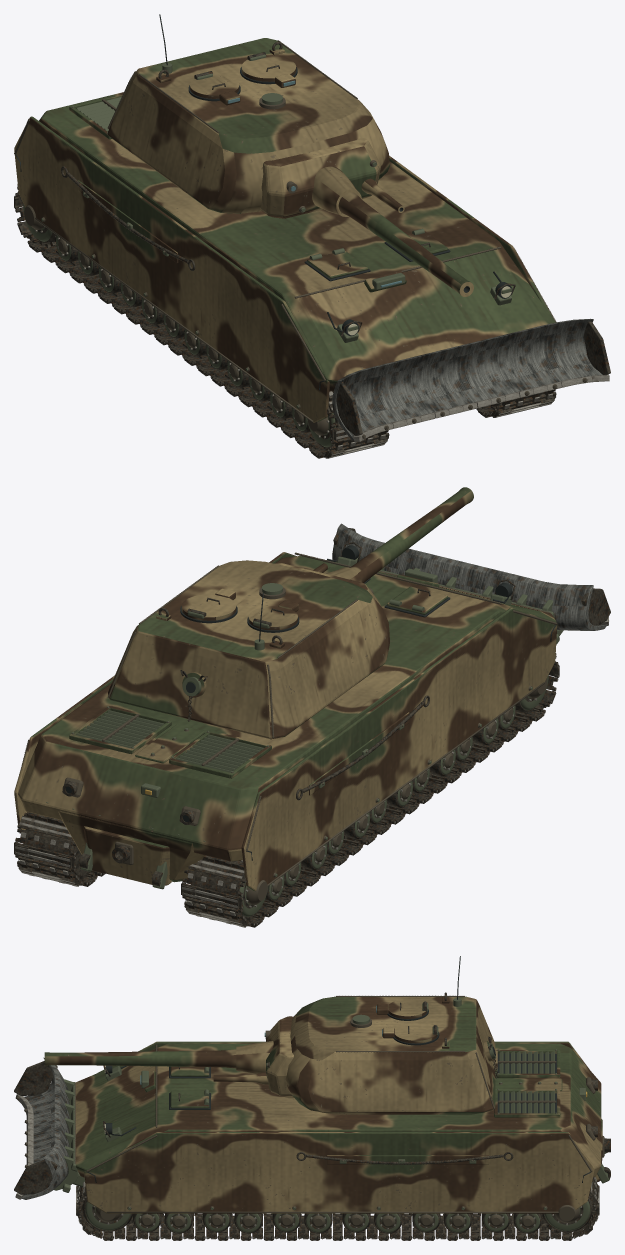
Rendered from maus-engineering.glb.
The picture shows the model from 3 angles, top to bottom: view 1: azimuth 30°, elevation 25°; view 2: azimuth 150°, elevation 25°; view 3: azimuth 270°, elevation 25°; orthographic projection. The views are drawn at different scales.
Parts seen in each view (by area): view 1: 02 · Welded upper hull and glacis, 03 · Continuous deep side armor L, Turret · rolled bow, pitched cheeks and rear armor, Continuous curved moldboard shell, Asymmetric cast gun cradle, Main gun exterior, Bolstered barrel collar, 03 · Continuous deep side armor R, Commander low hatch cover, Flush deck hatch L, Moldboard outer cheek +1, Gunner low hatch cover (+5 smaller); view 2: 02 · Welded upper hull and glacis, Turret · rolled bow, pitched cheeks and rear armor, 03 · Continuous deep side armor L, Continuous curved moldboard shell, Rear double towing shoe, Main gun exterior, 01 · Belly pan and lower nose, Engine center maintenance spine, 03 · Continuous deep side armor R, Commander low hatch cover, Rear_Sprocket_L, Flush deck hatch L (+14 smaller); view 3: 03 · Continuous deep side armor R, 02 · Welded upper hull and glacis, Turret · rolled bow, pitched cheeks and rear armor, Continuous curved moldboard shell, Main gun exterior, Asymmetric cast gun cradle, Cable saddle backing R, Rear_Sprocket_R, Bolstered barrel collar, Moldboard outer cheek -1, Moldboard outer cheek +1, Front_Idler_R (+22 smaller).
Boxes of the visible parts, x1=… form: 02 · Welded upper hull and glacis: x1=39, y1=92, x2=555, y2=391; 03 · Continuous deep side armor L: x1=14, y1=116, x2=329, y2=422; Turret · rolled bow, pitched cheeks and rear armor: x1=108, y1=38, x2=389, y2=213; Continuous curved moldboard shell: x1=332, y1=318, x2=602, y2=440; Asymmetric cast gun cradle: x1=260, y1=138, x2=380, y2=218; Main gun exterior: x1=338, y1=192, x2=473, y2=296; Bolstered barrel collar: x1=312, y1=166, x2=361, y2=216; 03 · Continuous deep side armor R: x1=389, y1=156, x2=553, y2=318; Commander low hatch cover: x1=241, y1=55, x2=296, y2=81; Flush deck hatch L: x1=307, y1=251, x2=368, y2=278; Moldboard outer cheek +1: x1=584, y1=321, x2=610, y2=375; Gunner low hatch cover: x1=190, y1=74, x2=239, y2=98; 02 · Welded upper hull and glacis: x1=18, y1=556, x2=556, y2=861; Turret · rolled bow, pitched cheeks and rear armor: x1=108, y1=560, x2=389, y2=739; 03 · Continuous deep side armor L: x1=241, y1=607, x2=557, y2=891; Continuous curved moldboard shell: x1=332, y1=523, x2=607, y2=630; Rear double towing shoe: x1=83, y1=826, x2=171, y2=885; Main gun exterior: x1=350, y1=487, x2=473, y2=582; 01 · Belly pan and lower nose: x1=58, y1=810, x2=204, y2=882; Engine center maintenance spine: x1=135, y1=724, x2=205, y2=763; 03 · Continuous deep side armor R: x1=14, y1=552, x2=296, y2=829; Commander low hatch cover: x1=181, y1=594, x2=236, y2=620; Rear_Sprocket_L: x1=191, y1=861, x2=268, y2=920; Flush deck hatch L: x1=387, y1=586, x2=447, y2=614; 03 · Continuous deep side armor R: x1=84, y1=1132, x2=594, y2=1213; 02 · Welded upper hull and glacis: x1=75, y1=1043, x2=601, y2=1177; Turret · rolled bow, pitched cheeks and rear armor: x1=285, y1=996, x2=495, y2=1114; Continuous curved moldboard shell: x1=21, y1=1057, x2=69, y2=1199; Main gun exterior: x1=44, y1=1049, x2=236, y2=1068; Asymmetric cast gun cradle: x1=266, y1=1016, x2=293, y2=1098; Cable saddle backing R: x1=327, y1=1155, x2=489, y2=1164; Rear_Sprocket_R: x1=539, y1=1198, x2=594, y2=1234; Bolstered barrel collar: x1=236, y1=1041, x2=273, y2=1074; Moldboard outer cheek -1: x1=14, y1=1061, x2=57, y2=1095; Moldboard outer cheek +1: x1=14, y1=1160, x2=57, y2=1194; Front_Idler_R: x1=82, y1=1198, x2=133, y2=1231.
Bounding box in the file's own units: 4.1 × 4.14 × 10.18.
13 materials, 6 textured.
